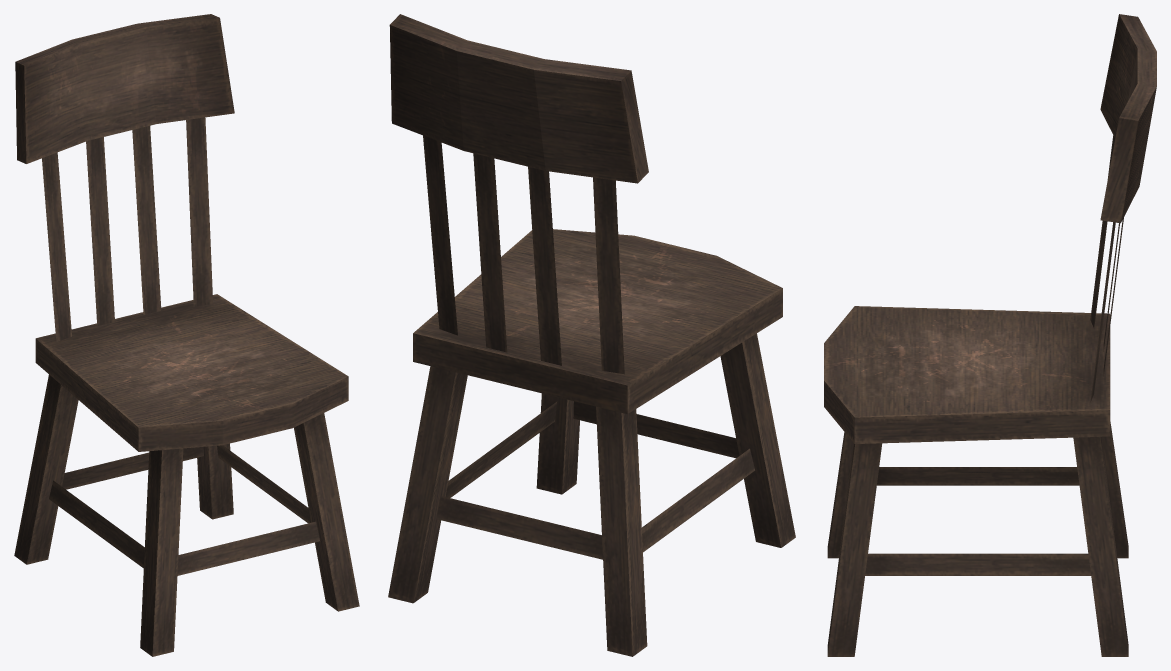
The model's file is Chair_3.fbx.
The picture shows the model from 3 angles, left to right: view 1: azimuth 30°, elevation 25°; view 2: azimuth 150°, elevation 25°; view 3: azimuth 270°, elevation 25°; orthographic projection. The views are drawn at different scales.
Visible parts, largest first — view 1: Chair_3; view 2: Chair_3; view 3: Chair_3.
Part boxes in pixels (x1=…): Chair_3: x1=14, y1=14, x2=359, y2=656; Chair_3: x1=388, y1=14, x2=795, y2=656; Chair_3: x1=824, y1=14, x2=1156, y2=656.
Size of the model in its own units: 52.05 by 116 by 65.61.
